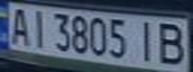0: (87, 15, 109, 57)
3: (48, 10, 72, 53)
5: (106, 16, 133, 61)
8: (66, 12, 90, 55)
A: (3, 4, 33, 46)
B: (154, 19, 190, 65)
I: (130, 17, 160, 64), (27, 7, 51, 48)
